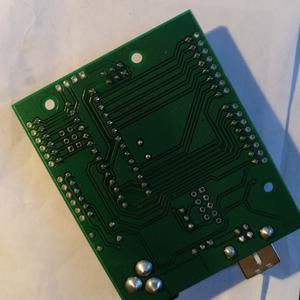duino: (18, 9, 294, 296)
